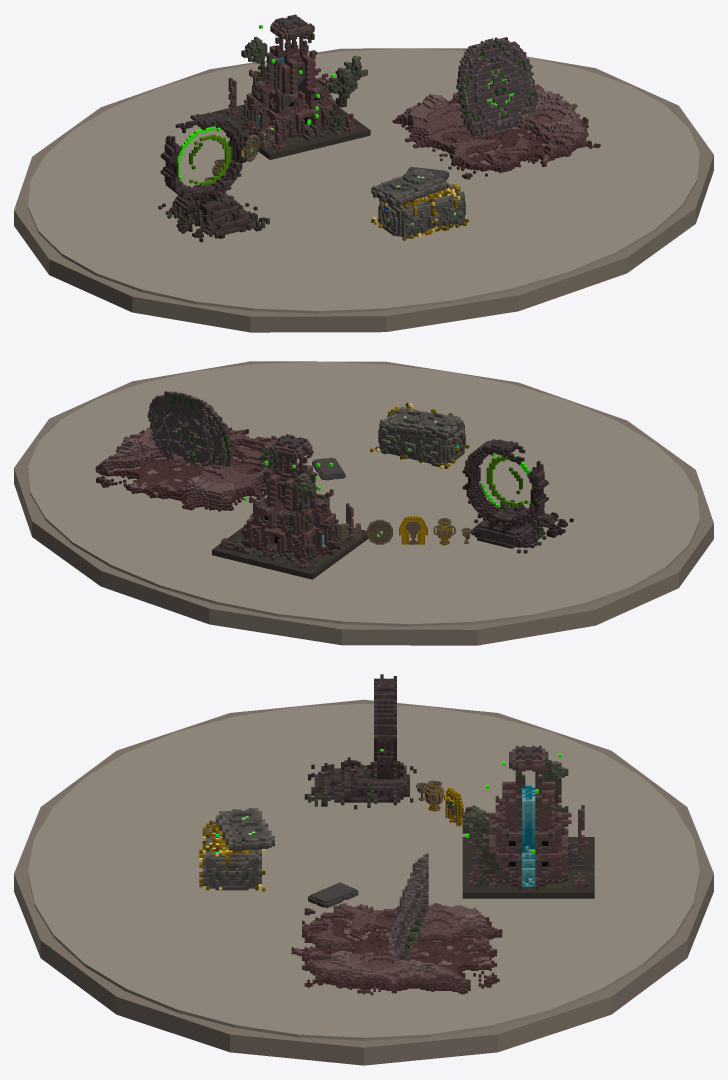
Rendered from ancient_level.glb.
3 renders of one model, top to bottom at view 1: azimuth 30°, elevation 25°; view 2: azimuth 150°, elevation 25°; view 3: azimuth 270°, elevation 25°, orthographic. The views are drawn at different scales.
Visible parts, largest first — view 1: Ground, GroundEdge, Untitled, AncientTemple, Untitled.001, Portal_Arch, Portal_Stairs, Portal_Rings, Untitled.002; view 2: Ground, GroundEdge, Untitled, AncientTemple, Untitled.001, Portal_Arch, Portal_Stairs, Untitled.002, Portal_Rings, Untitled.003; view 3: Ground, GroundEdge, Untitled, AncientTemple, Untitled.001, Portal_Stairs, Portal_Arch, Untitled.002, Untitled.003.
Boxes of the visible parts, x1,y1,x2,y2 form: Ground: (28,48,699,313); GroundEdge: (14,48,713,332); Untitled: (392,37,600,179); AncientTemple: (212,14,370,159); Untitled.001: (371,169,468,240); Portal_Arch: (160,112,246,203); Portal_Stairs: (158,192,269,242); Portal_Rings: (177,126,231,186); Untitled.002: (204,126,275,180); Ground: (28,361,699,626); GroundEdge: (14,361,713,645); Untitled: (95,391,313,511); AncientTemple: (212,434,368,579); Untitled.001: (370,402,469,469); Portal_Arch: (462,439,548,530); Portal_Stairs: (467,499,573,553); Untitled.002: (340,514,471,545); Portal_Rings: (481,453,532,507); Untitled.003: (312,457,345,480); Ground: (28,703,699,1040); GroundEdge: (14,699,713,1065); Untitled: (291,853,502,995); AncientTemple: (462,745,594,898); Untitled.001: (199,808,274,891); Portal_Stairs: (304,757,416,809); Portal_Arch: (367,674,403,778); Untitled.002: (416,780,489,839); Untitled.003: (308,882,358,908).
Size of the model in its own units: 25 by 4.7 by 21.25.
10 materials, 8 textured.
